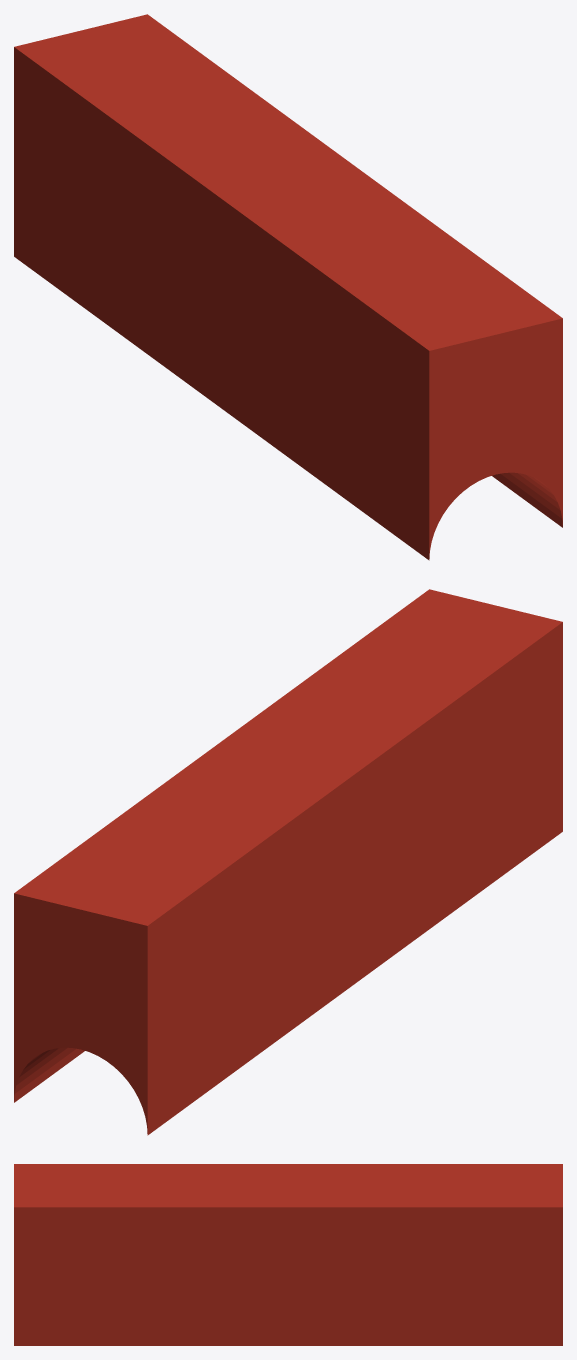
The model's file is SM_02_Arch_Vault_2.fbx.
3 views of the same model, one above another, from view 1: azimuth 30°, elevation 25°; view 2: azimuth 150°, elevation 25°; view 3: azimuth 270°, elevation 25° (orthographic). The views are drawn at different scales.
Visible parts, largest first — view 1: Arch_Vault_2; view 2: Arch_Vault_2; view 3: Arch_Vault_2.
Part boxes in pixels (x1,y1,x2,y2): Arch_Vault_2: (14,14,562,560); Arch_Vault_2: (14,589,562,1135); Arch_Vault_2: (14,1164,562,1345).
Size of the model in its own units: 520 by 2800 by 780.
